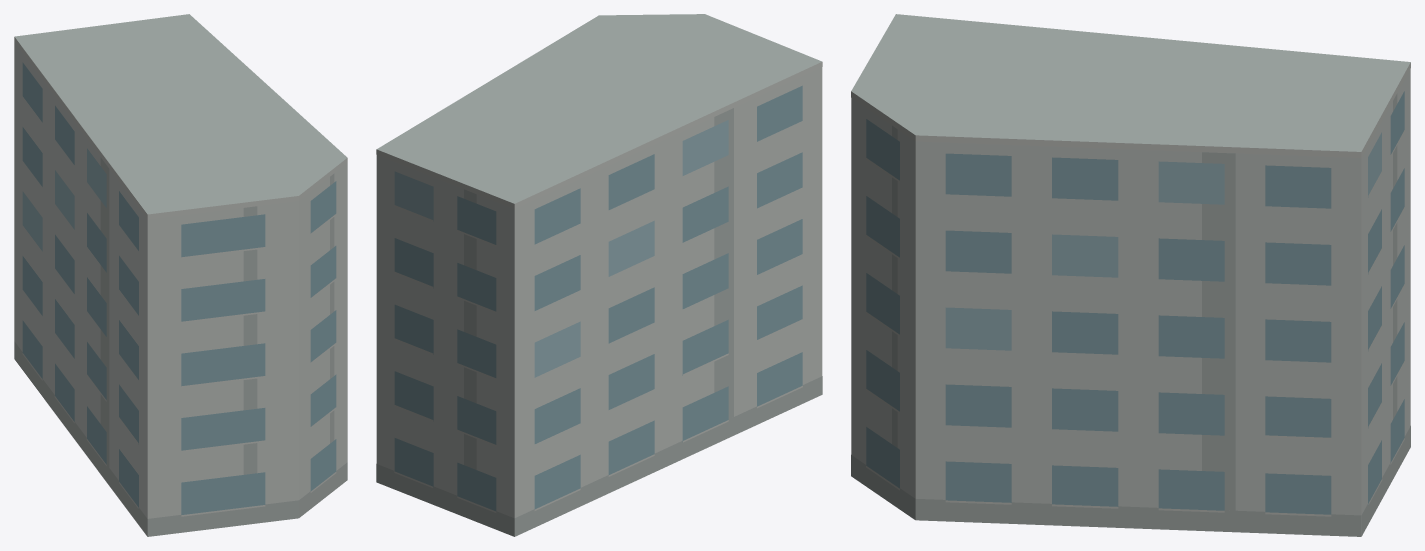
File: survey-upis-33012917.glb
The picture shows the model from 3 angles, left to right: view 1: azimuth 30°, elevation 25°; view 2: azimuth 150°, elevation 25°; view 3: azimuth 270°, elevation 25°; orthographic projection. The views are drawn at different scales.
Parts seen in each view (by area): view 1: survey-upis-33012917.tmp; view 2: survey-upis-33012917.tmp; view 3: survey-upis-33012917.tmp.
Part boxes in pixels (box(x1,y1,x2,y2)): survey-upis-33012917.tmp: box(14, 14, 347, 536); survey-upis-33012917.tmp: box(376, 14, 822, 536); survey-upis-33012917.tmp: box(851, 14, 1410, 536).
Size of the model in its own units: 11.62 by 15.1 by 19.91.
